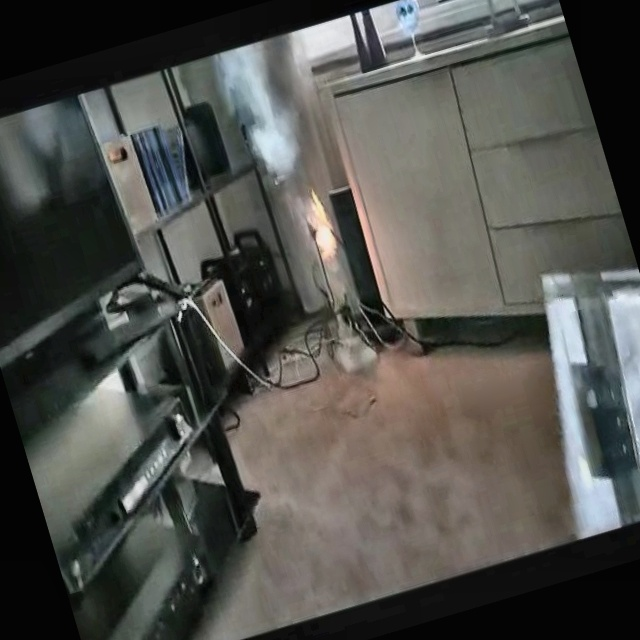smoke: (208, 35, 335, 200)
